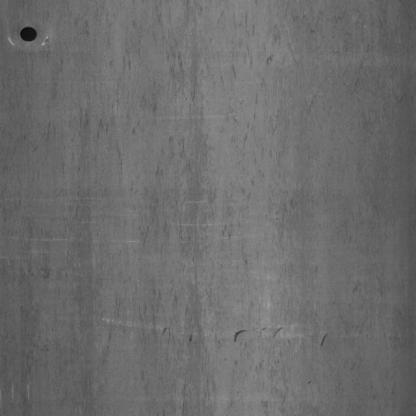punching_hole: (18, 22, 39, 44)
silk_spot: (51, 4, 302, 346), (302, 8, 410, 122)
